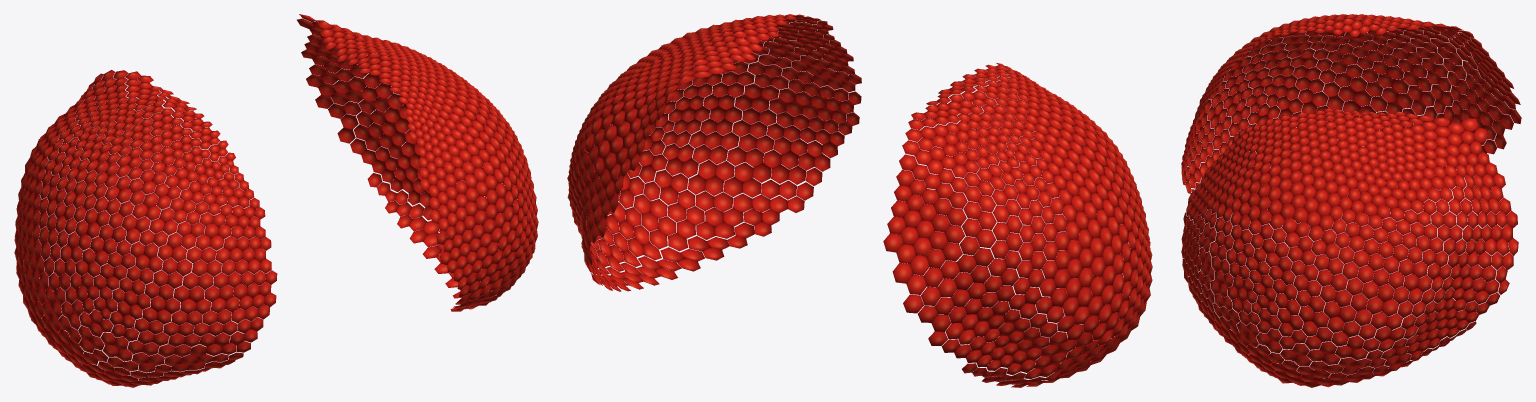
Rendered from head_eye.obj.
3 renders of one model, left to right at view 1: azimuth 30°, elevation 25°; view 2: azimuth 150°, elevation 25°; view 3: azimuth 270°, elevation 25°, orthographic. The views are drawn at different scales.
Bounding box in the file's own units: 0.0956 × 0.0476 × 0.0615.
Materials: 1 (1 with a texture image).
